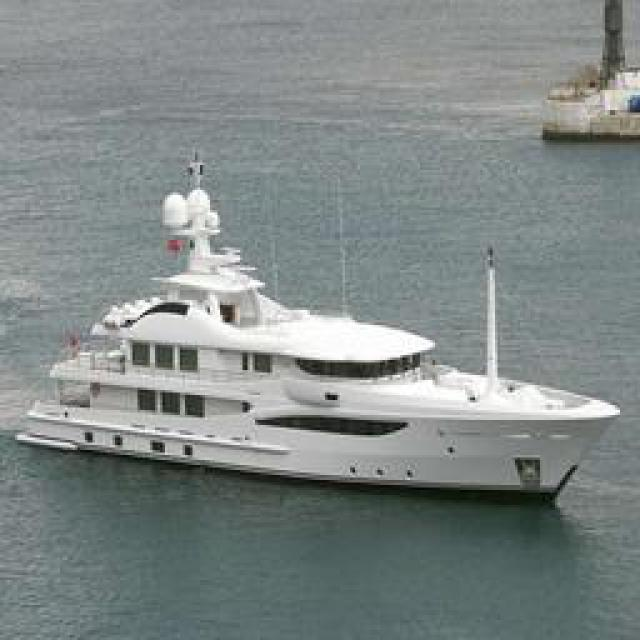Ship: (24, 136, 617, 496)
